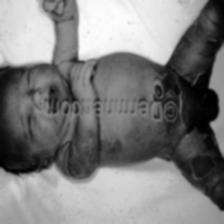Toxin: (185, 130, 207, 168), (151, 79, 167, 96)
